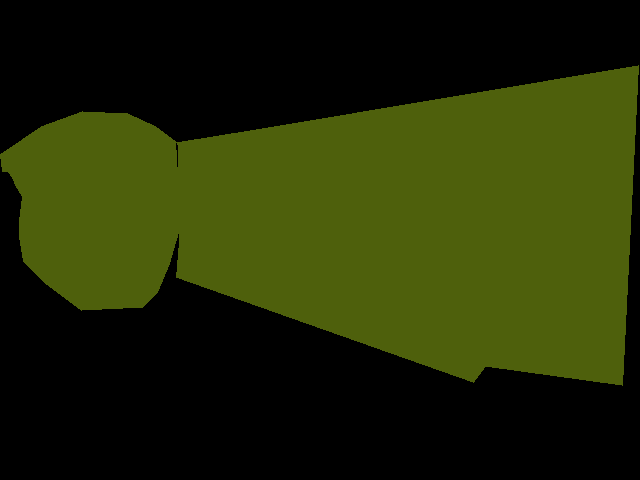Train: (176, 65, 639, 385), (0, 111, 180, 310)
